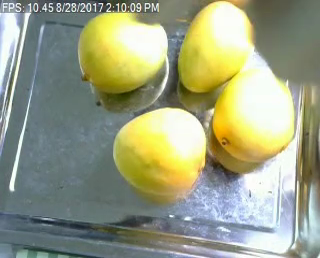Mango: (113, 106, 207, 195), (211, 68, 297, 160), (79, 8, 169, 92), (175, 1, 256, 91)
